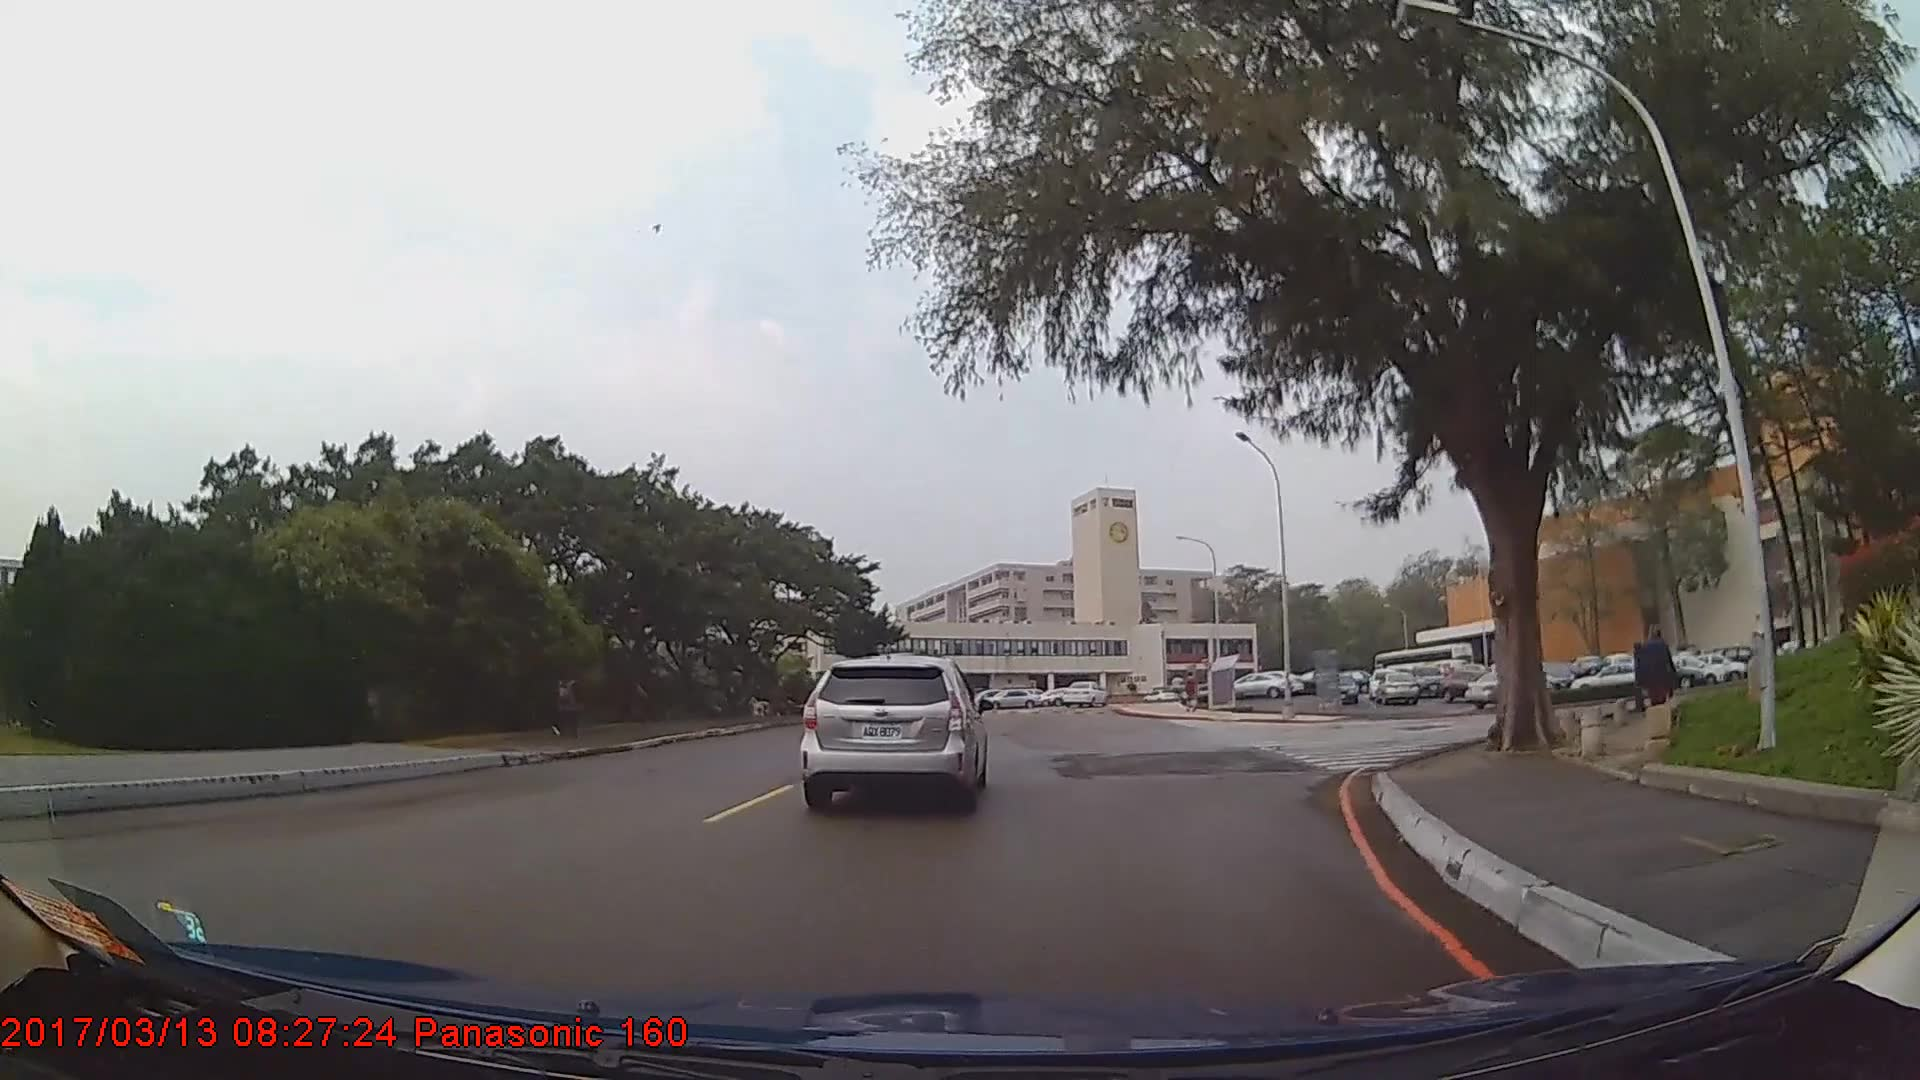pedestrian: (1639, 624, 1679, 742), (550, 673, 585, 745)
vehicle: (802, 651, 987, 811), (1569, 659, 1651, 698), (1223, 671, 1292, 696), (1376, 671, 1422, 708), (980, 686, 1042, 710), (1060, 678, 1108, 708), (1407, 663, 1445, 696), (1327, 673, 1360, 702)
